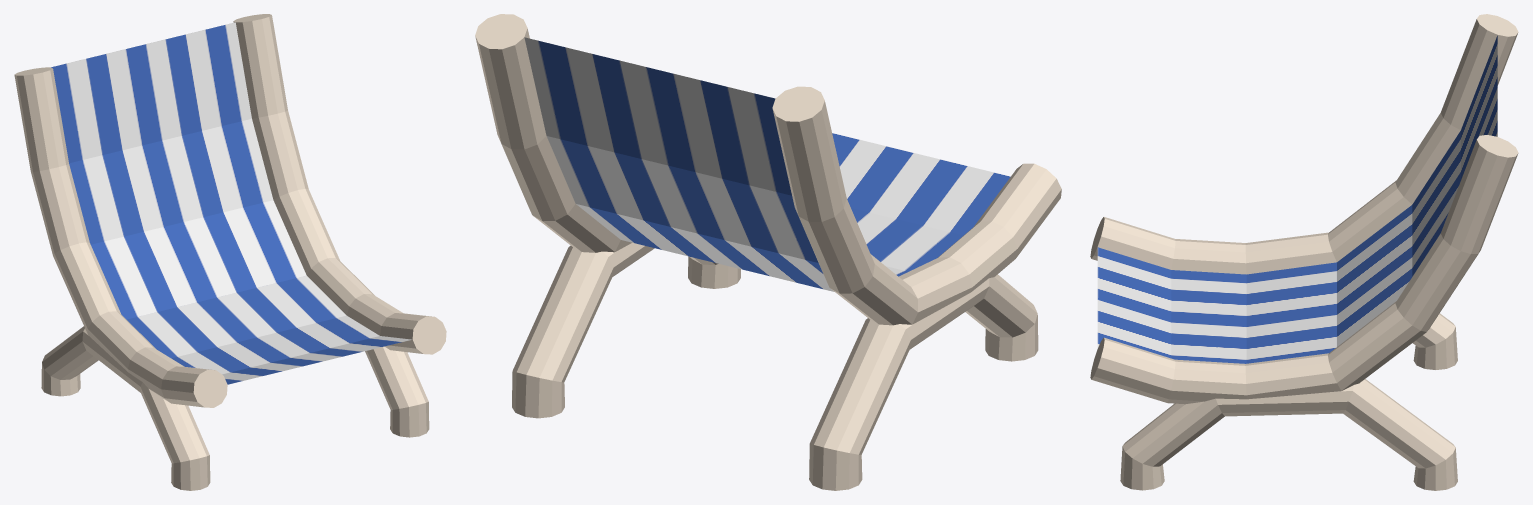
The model's file is beach chair.fbx.
3 views of the same model, side by side, from view 1: azimuth 30°, elevation 25°; view 2: azimuth 150°, elevation 25°; view 3: azimuth 270°, elevation 25° (orthographic). The views are drawn at different scales.
Visible parts, largest first — view 1: cloth; view 2: cloth; view 3: cloth.
Boxes of the visible parts, x1=… form: cloth: x1=14, y1=14, x2=446, y2=490; cloth: x1=475, y1=14, x2=1061, y2=490; cloth: x1=1090, y1=14, x2=1518, y2=490.
Bounding box in the file's own units: 1.04 × 1.19 × 1.35.
2 materials, 1 textured.
